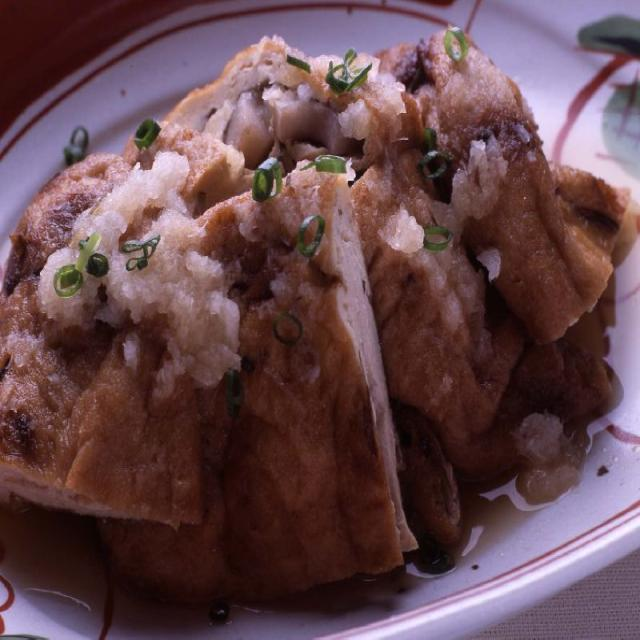熟制海鲜: (0, 28, 640, 621)
